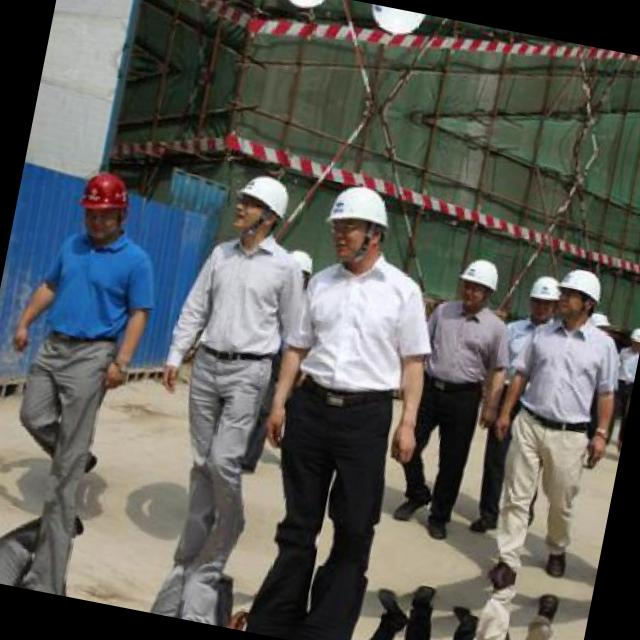helmet: (321, 181, 400, 268), (227, 168, 300, 246), (73, 163, 138, 246), (453, 252, 505, 312), (554, 263, 604, 321), (364, 4, 436, 39), (520, 272, 562, 322), (271, 0, 336, 15), (624, 320, 640, 354)
